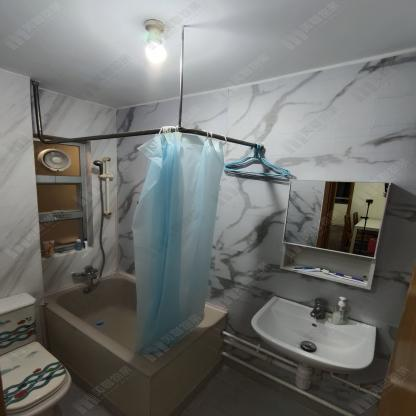Bathtub: (44, 269, 228, 415)
Exhaust Fan: (34, 146, 73, 175)
Toilet: (0, 292, 72, 416)
Toilet Sink: (249, 295, 376, 372)
